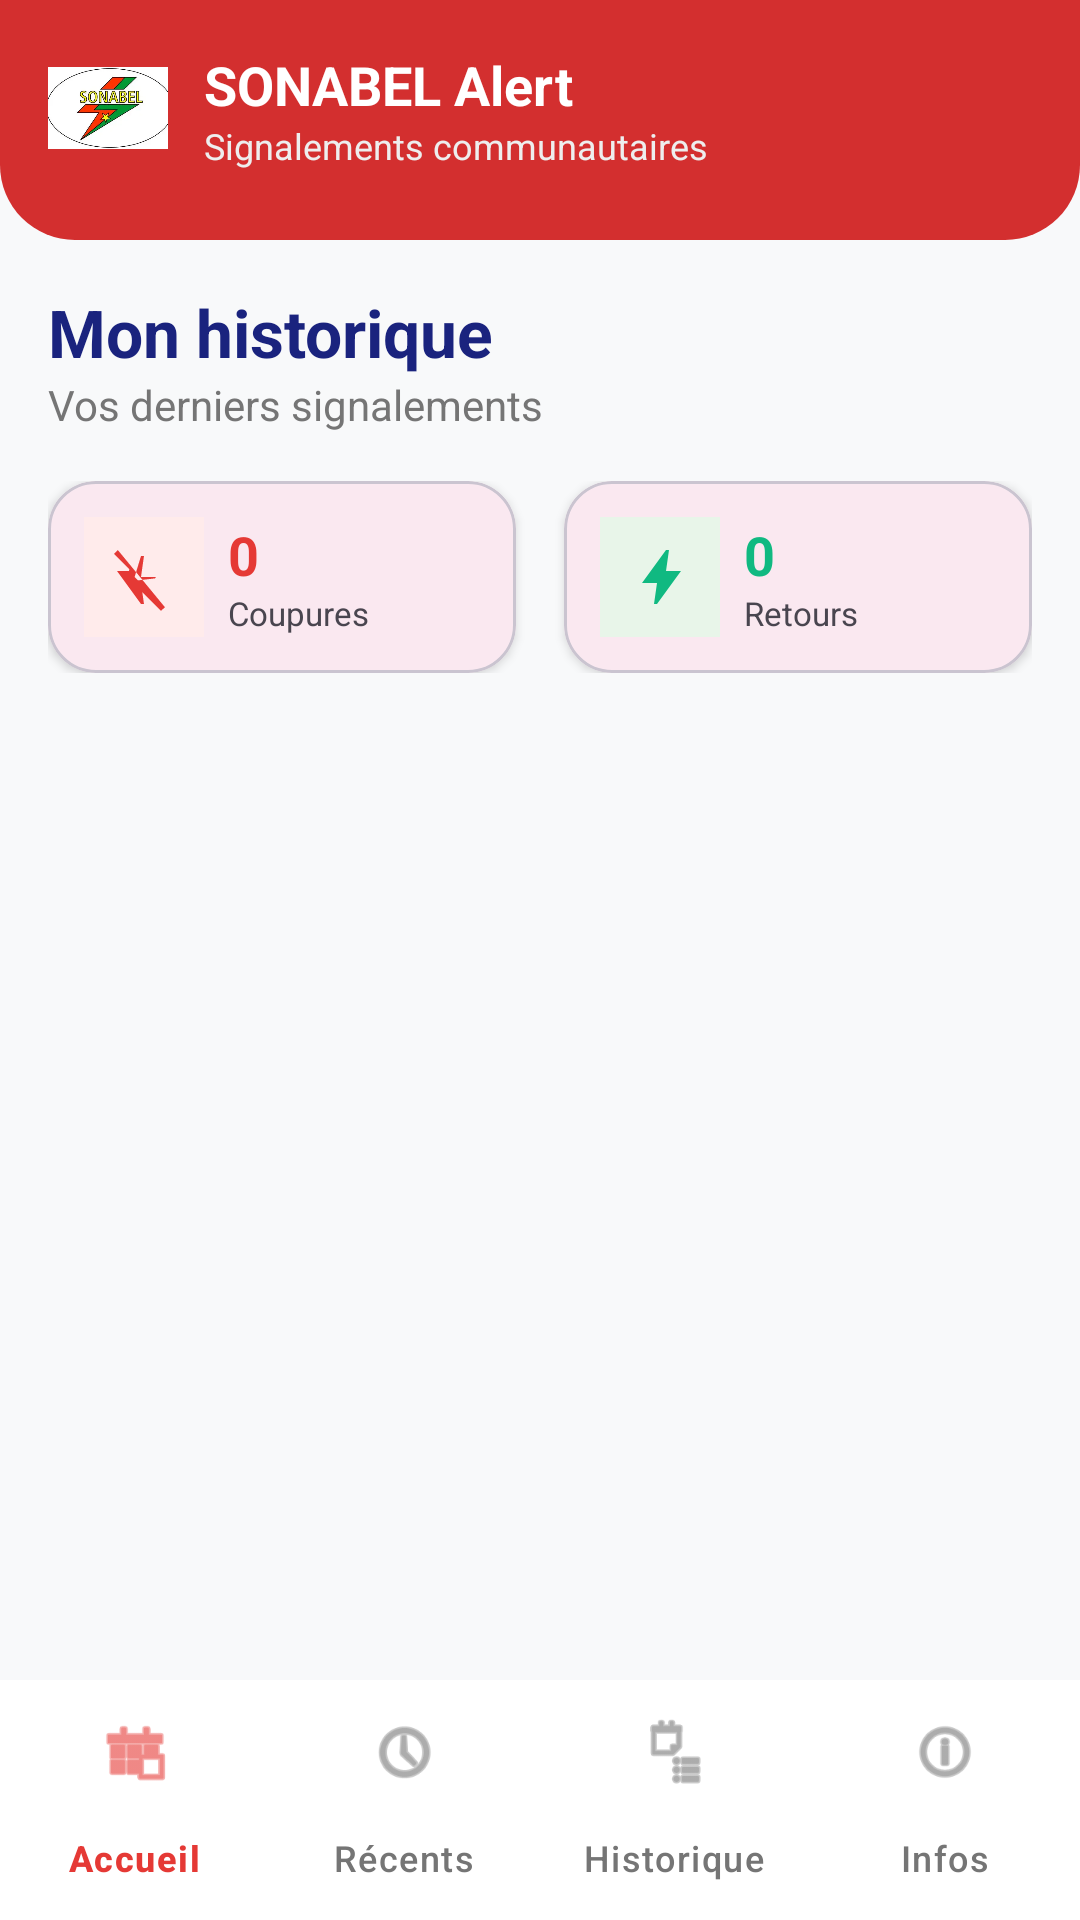

Icon click points for this 1080*1920 phone screenshot, format (x,y):
bolt: (660,577)
bolt slash: (139,580)
